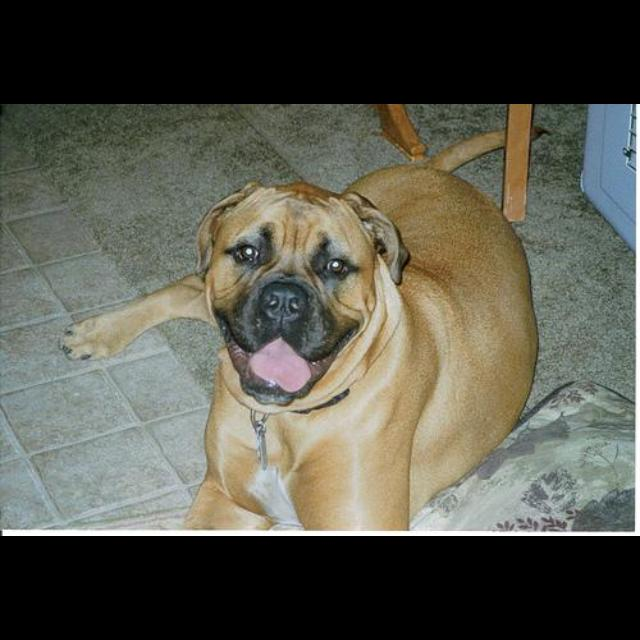bullmastiff: (60, 122, 550, 532)
